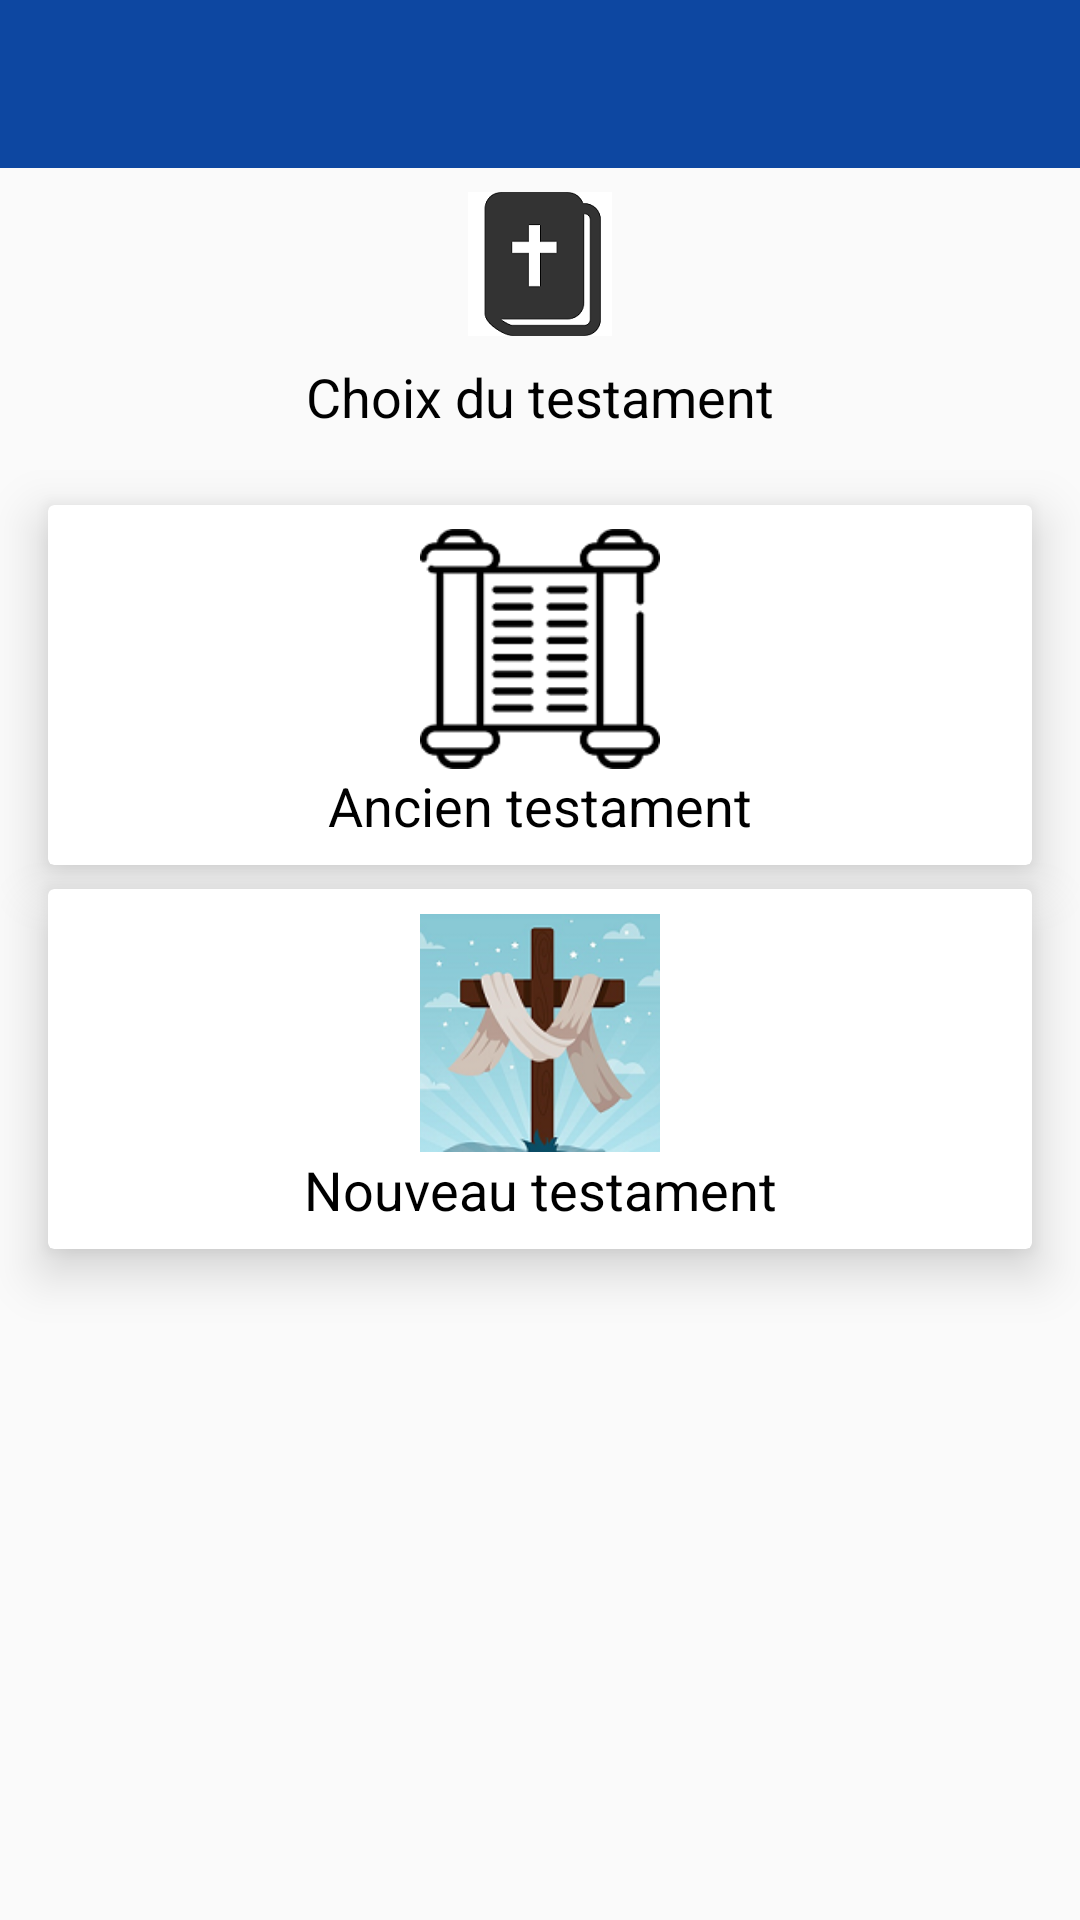

Icons on this 1080px x 1920px Android screen, each with the point to tap as [x,y]:
bible: [542,264]
thorah: [540,649]
